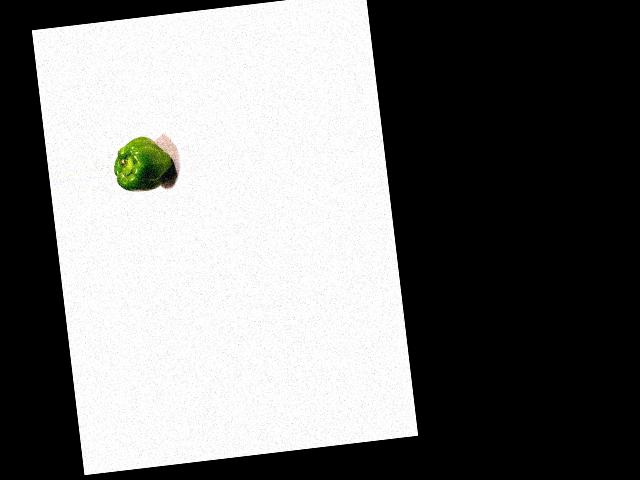bell_pepper: (111, 131, 178, 195)
